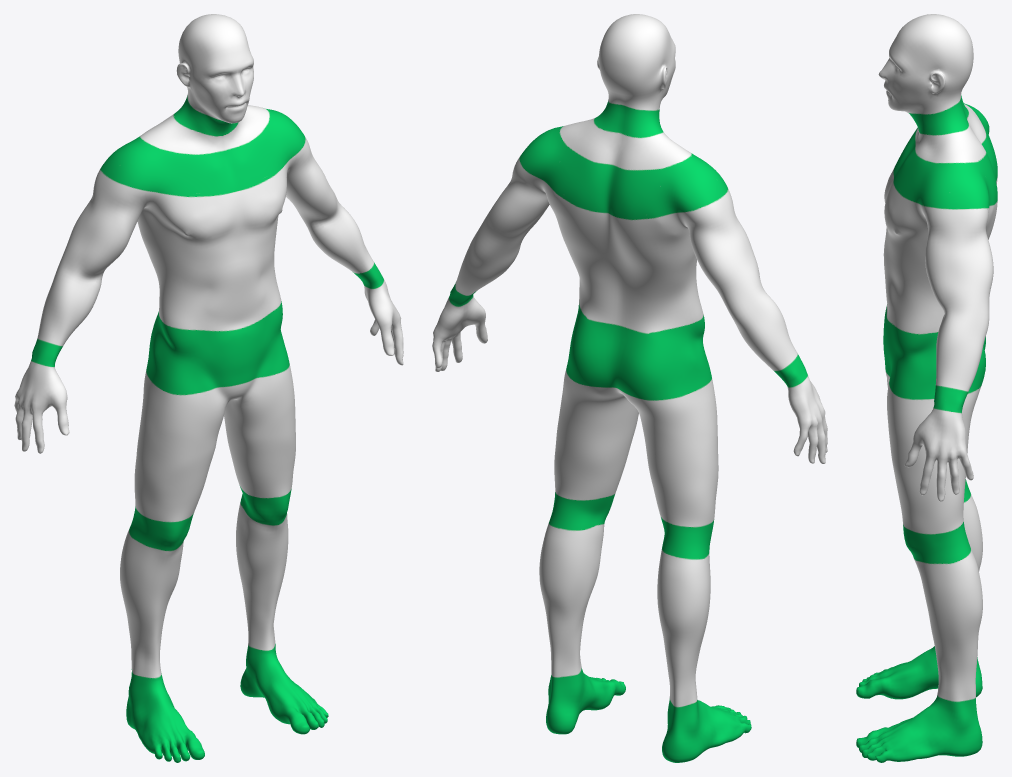
Rendered from male.glb.
3 renders of one model, left to right at view 1: azimuth 30°, elevation 25°; view 2: azimuth 150°, elevation 25°; view 3: azimuth 270°, elevation 25°, orthographic.
Parts seen in each view (by area): view 1: Male; view 2: Male; view 3: Male.
Part boxes in pixels (x1,y1,x2,y2): Male: (14, 14, 403, 762); Male: (432, 14, 827, 762); Male: (856, 14, 997, 762).
Bounding box in the file's own units: 11.69 × 20.74 × 3.77.
Materials: 1 (1 with a texture image).
